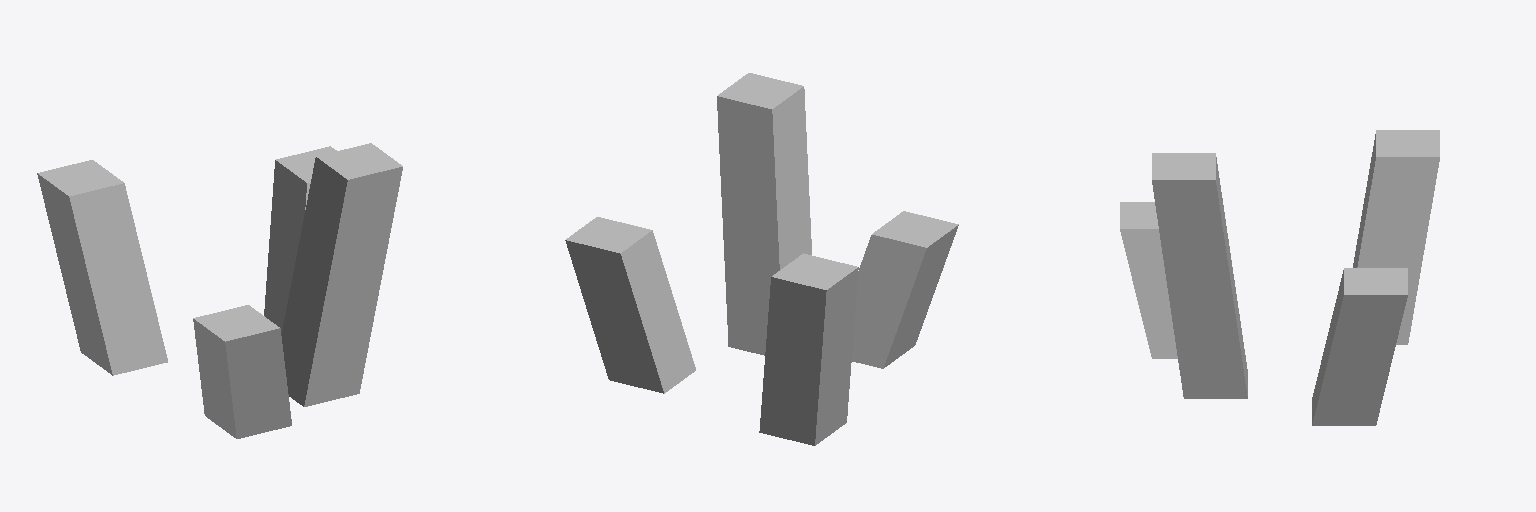
Rendered from cave_crystal.obj.
3 views of the same model, side by side, from view 1: azimuth 30°, elevation 25°; view 2: azimuth 150°, elevation 25°; view 3: azimuth 270°, elevation 25° (orthographic).
Parts seen in each view (by area): view 1: Crystal_Cube.002; view 2: Crystal_Cube.002; view 3: Crystal_Cube.002.
Boxes of the visible parts, x1=… form: Crystal_Cube.002: x1=37, y1=143, x2=402, y2=438; Crystal_Cube.002: x1=565, y1=73, x2=958, y2=445; Crystal_Cube.002: x1=1120, y1=130, x2=1439, y2=425.
Bounding box in the file's own units: 0.625 × 0.5 × 0.625.